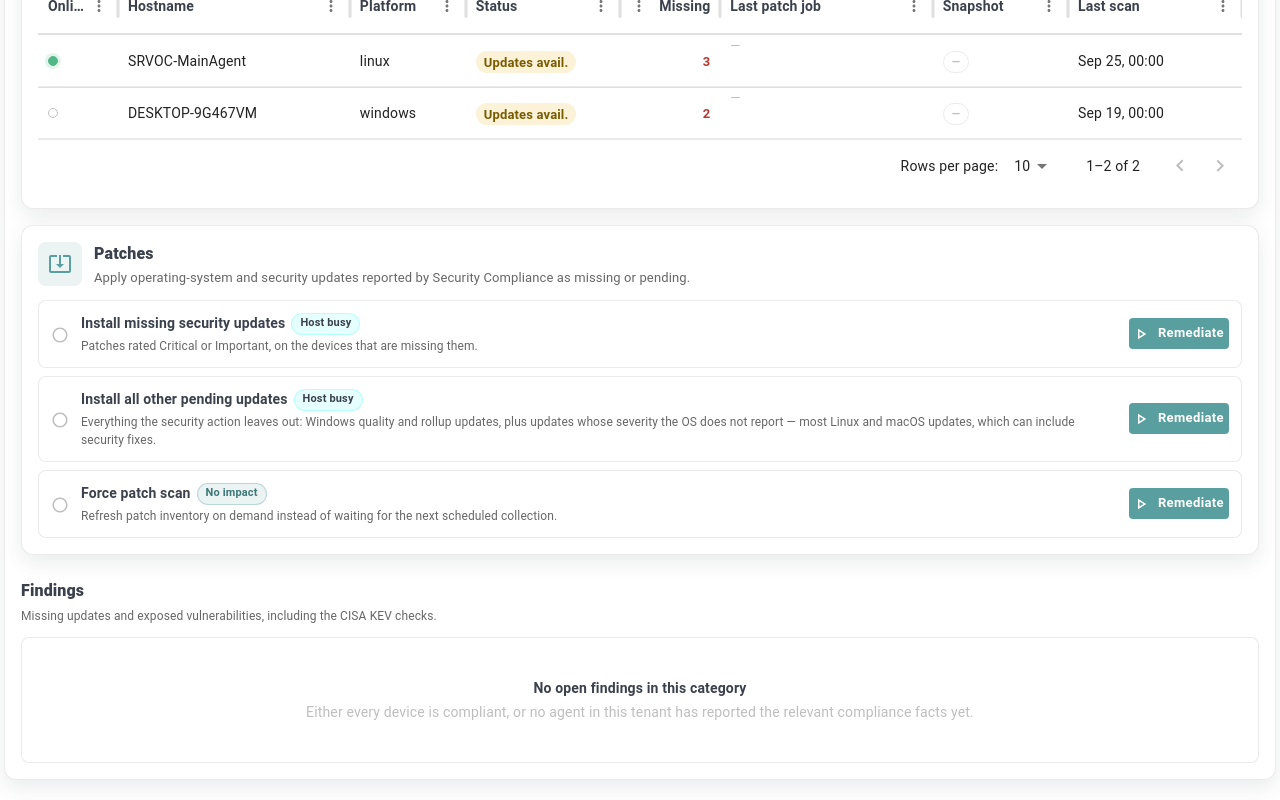
Test: Patch Management — acciones de flota › ⚠️ la vista previa marca el equipo desconectado y lo dice
The image size is (1280, 800).
(page scrolled)
Expected: the text "SRVOC-MainAgent" is shown, [118, 35, 350, 87]
What coordinates should you click on to do the following:
click the button "Remediate" in the row of "Install all other pending updates"
I would click on:
 (1179, 419)
Its box is [1129, 403, 1229, 434].
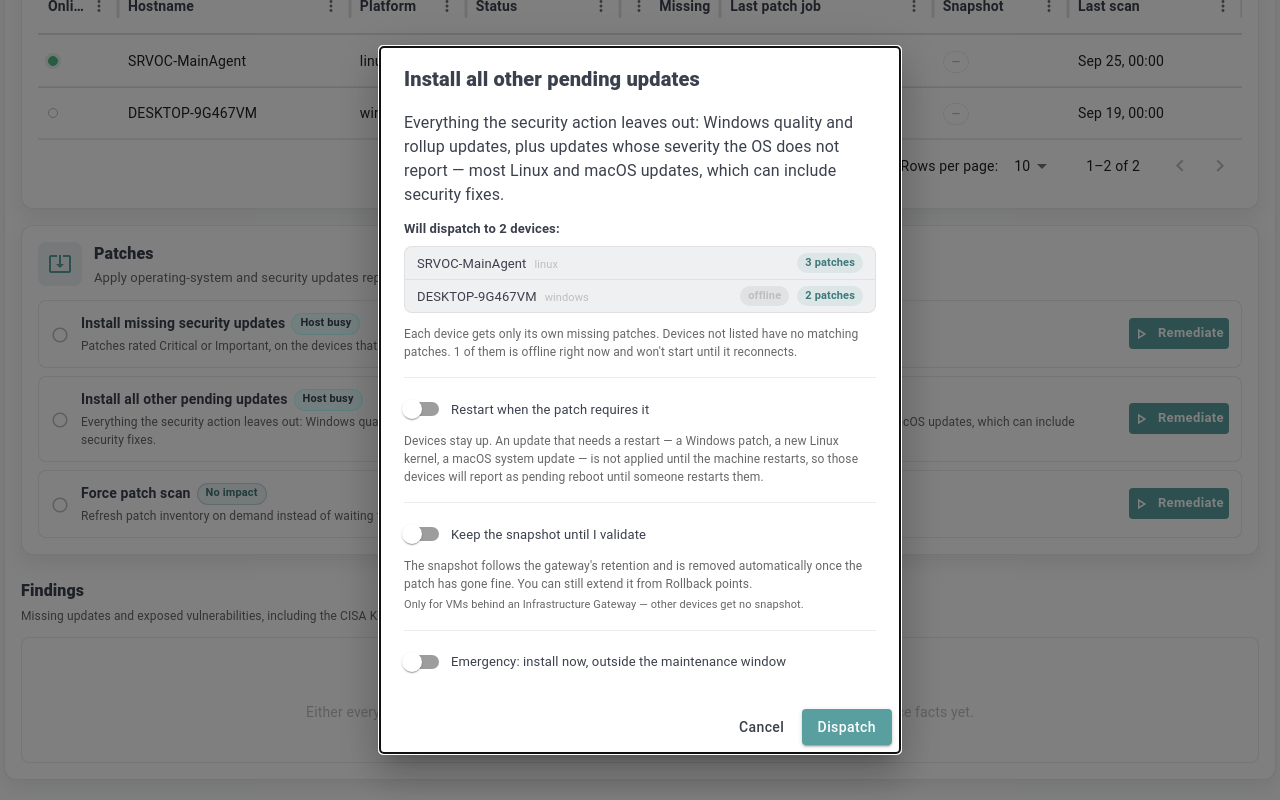
Expected: the text "Will dispatch to 2 devices:" is shown, [404, 221, 560, 236]
Expected: the text "offline" is shown, [748, 289, 781, 302]
Expected: the text "1 of them is offline right now" is shown, [451, 345, 797, 359]
